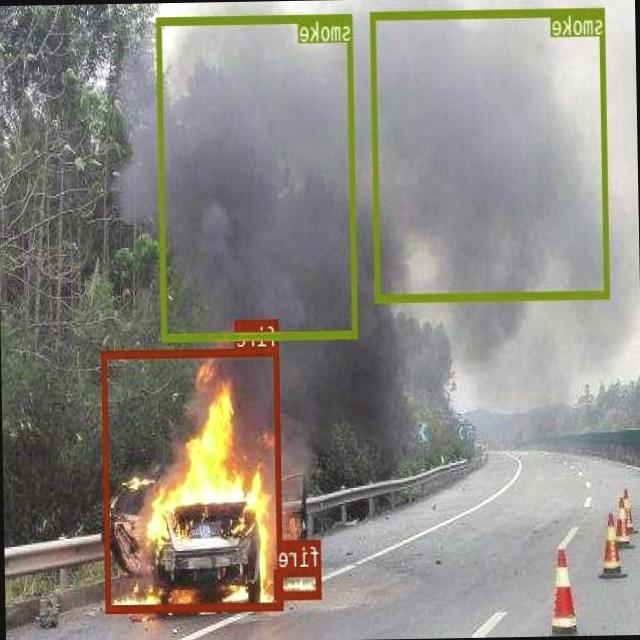fire: (103, 347, 284, 610), (275, 566, 322, 598)
smoke: (370, 6, 610, 300), (156, 13, 358, 339)
